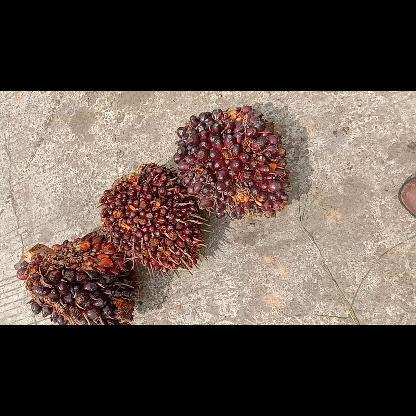Kurang masak: (171, 107, 290, 219), (96, 164, 210, 268)
TBS masak: (15, 232, 141, 324)
